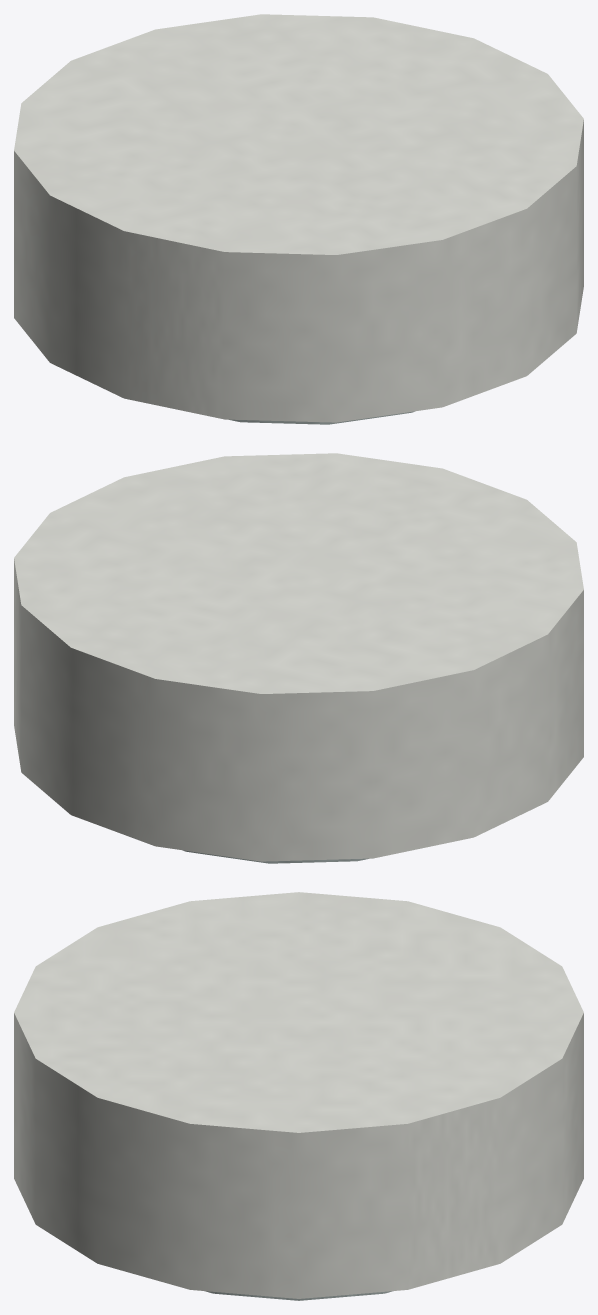
Rendered from detail-smoke-detector-0.glb.
3 renders of one model, top to bottom at view 1: azimuth 30°, elevation 25°; view 2: azimuth 150°, elevation 25°; view 3: azimuth 270°, elevation 25°, orthographic.
Parts seen in each view (by area): view 1: detector; view 2: detector; view 3: detector.
Part boxes in pixels (left/top/right/bottom): detector: left=14, top=14, right=583, bottom=422; detector: left=14, top=453, right=583, bottom=861; detector: left=14, top=892, right=583, bottom=1298.
Size of the model in its own units: 0.14 by 0.0525 by 0.14.
Materials: 2 (2 with a texture image).
